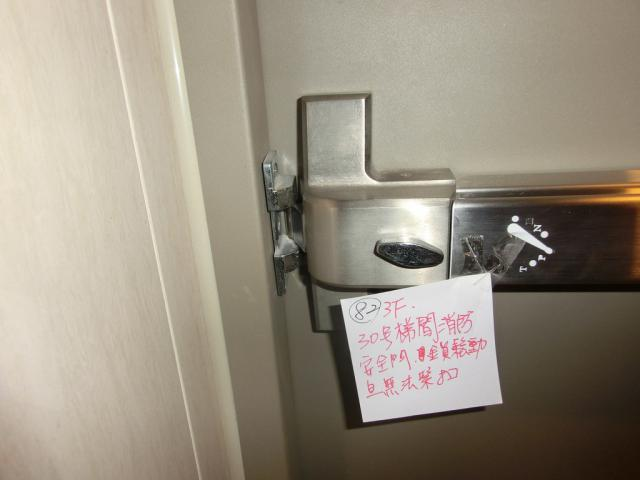Door-handle: (253, 89, 640, 338)
